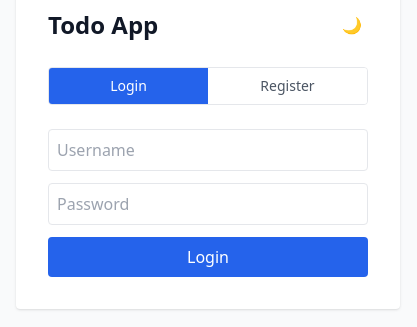
Test case: AuthPage › switches to register mode when Register tab is clicked
Click the button "Register": (288, 86) top-left (208, 68), bottom-right (367, 104)
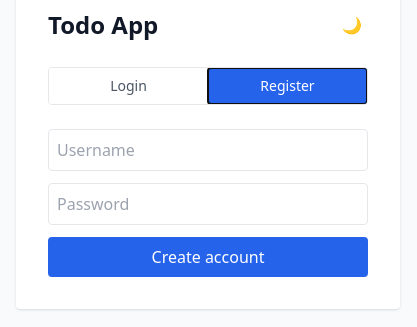
Now the button "Create account" is shown, box top-left (48, 237), bottom-right (368, 277)
